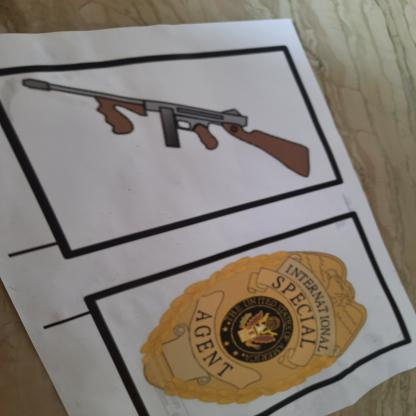Bootlegger: (3, 69, 325, 206)
G-man: (126, 239, 372, 416)
